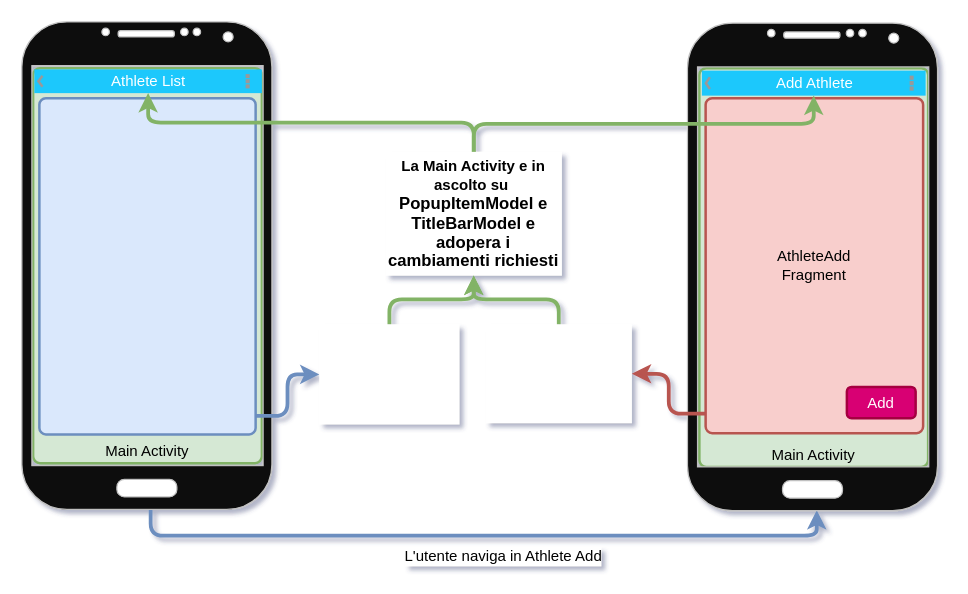
The diagram is 968 pixels wide and 594 high, and some of its shapes have lost their labels. The shapes that lost their labels are listed below. From the top down, each one's centre as x and y in pixels, then its label:
[147,265]: AtheleteList Fragment
[389,374]: AtheleteList Fragment invia su TitleBarModel la stringa "Athlete List"
[558,373]: AthleteAdd Fragment invia su TitleBarModel la stringa "Add Athlete"
